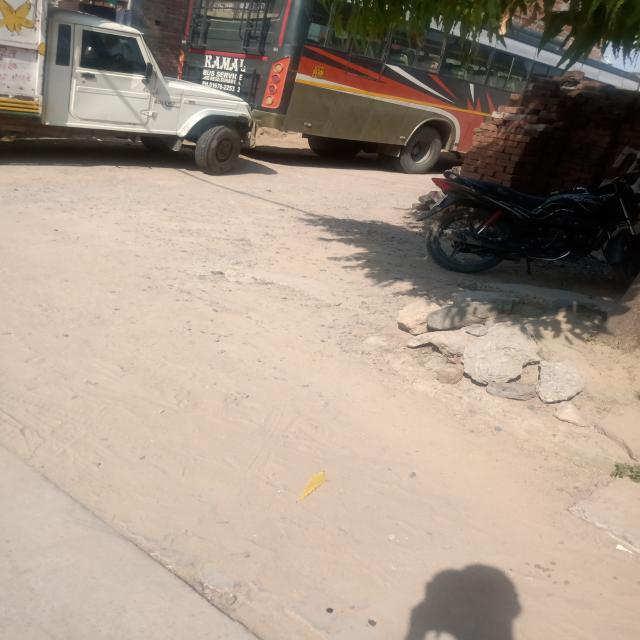Bus: (158, 1, 636, 154)
